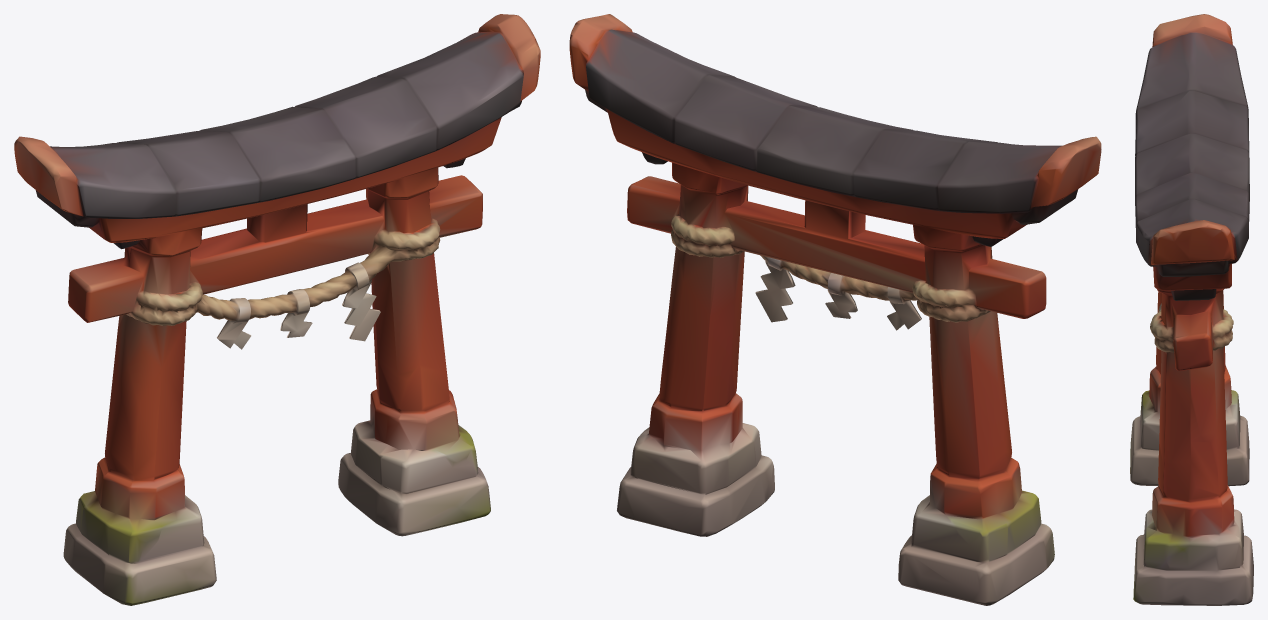
File: torii-CtySxcU-.glb
3 views of the same model, side by side, from view 1: azimuth 30°, elevation 25°; view 2: azimuth 150°, elevation 25°; view 3: azimuth 270°, elevation 25° (orthographic). The views are drawn at different scales.
Parts seen in each view (by area): view 1: tripo_node_acdf6d11-077b-4cd0-aa32-a4a7cc73dcb3; view 2: tripo_node_acdf6d11-077b-4cd0-aa32-a4a7cc73dcb3; view 3: tripo_node_acdf6d11-077b-4cd0-aa32-a4a7cc73dcb3.
Part boxes in pixels (x1=…): tripo_node_acdf6d11-077b-4cd0-aa32-a4a7cc73dcb3: x1=14, y1=14, x2=540, y2=605; tripo_node_acdf6d11-077b-4cd0-aa32-a4a7cc73dcb3: x1=569, y1=14, x2=1101, y2=605; tripo_node_acdf6d11-077b-4cd0-aa32-a4a7cc73dcb3: x1=1130, y1=14, x2=1253, y2=605.
Size of the model in its own units: 0.9801 by 0.8609 by 0.2351.
